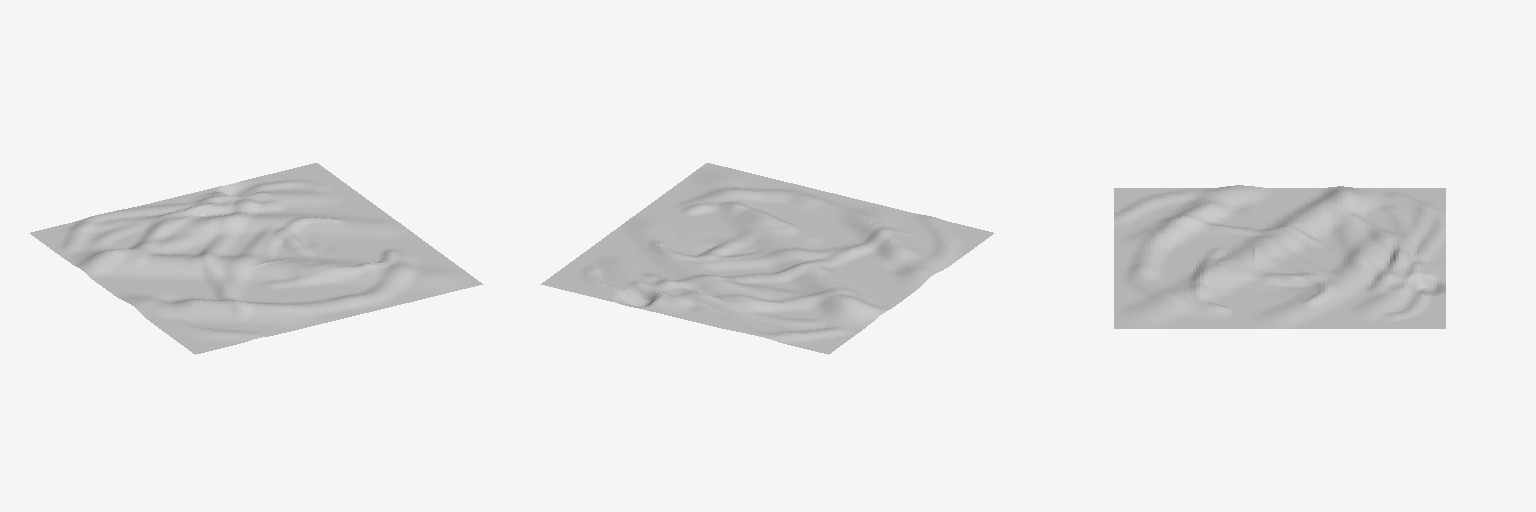
The model's file is terrain.obj.
3 views of the same model, side by side, from view 1: azimuth 30°, elevation 25°; view 2: azimuth 150°, elevation 25°; view 3: azimuth 270°, elevation 25° (orthographic).
Visible parts, largest first — view 1: Plane; view 2: Plane; view 3: Plane.
Part boxes in pixels (x1,y1,x2,y2): Plane: (30,163,482,354); Plane: (541,163,993,354); Plane: (1114,185,1445,328).
Bounding box in the file's own units: 200 × 10.81 × 200.